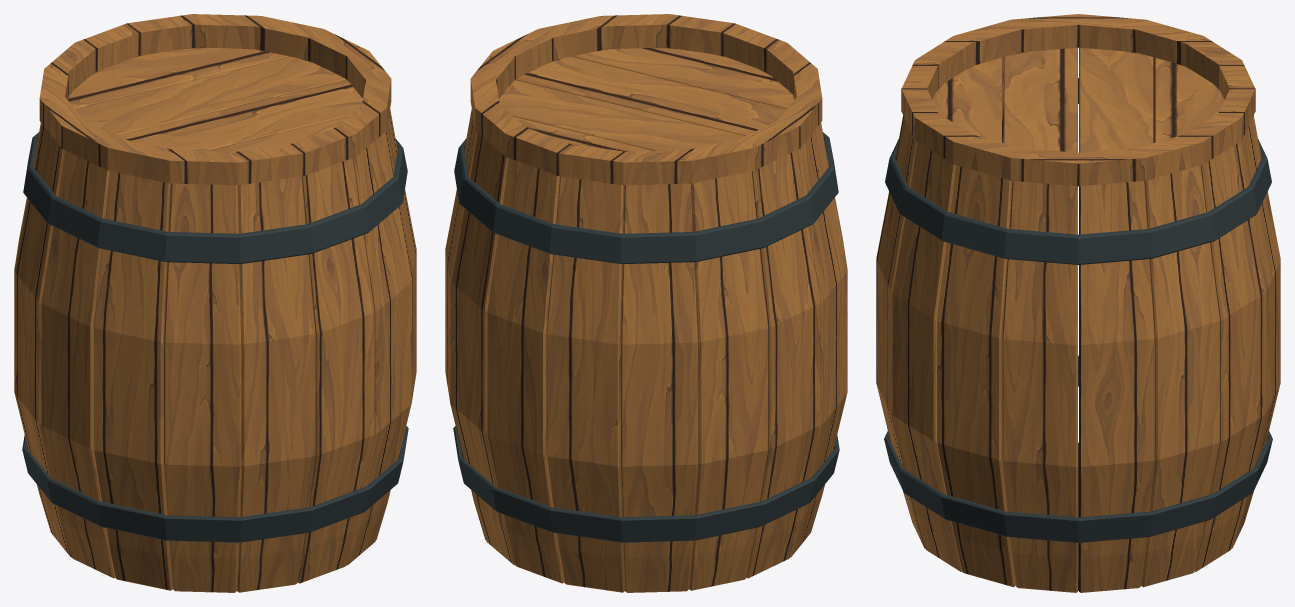
Rendered from aether_barrel_shape_genshin.glb.
3 renders of one model, left to right at view 1: azimuth 30°, elevation 25°; view 2: azimuth 150°, elevation 25°; view 3: azimuth 270°, elevation 25°, orthographic.
Visible parts, largest first — view 1: aether_barrel_shape_genshin; view 2: aether_barrel_shape_genshin; view 3: aether_barrel_shape_genshin.
Part boxes in pixels (bbox=[...]): aether_barrel_shape_genshin: bbox=[14, 14, 416, 592]; aether_barrel_shape_genshin: bbox=[445, 14, 847, 592]; aether_barrel_shape_genshin: bbox=[876, 14, 1280, 592].
Size of the model in its own units: 0.9024 by 1.07 by 0.9024.
Materials: 2 (1 with a texture image).
